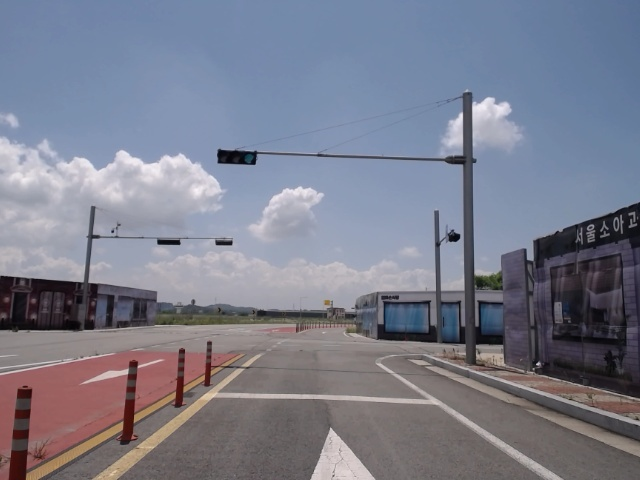green_3: (218, 151, 255, 163)
